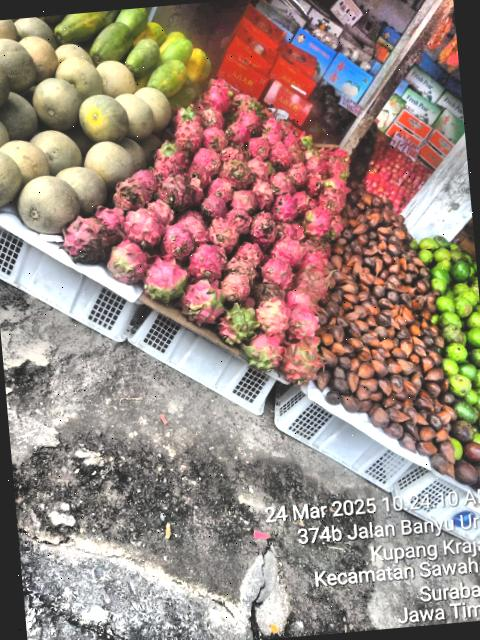buah-naga-belum-matang: (174, 272, 228, 328), (138, 250, 188, 305), (214, 298, 262, 346), (239, 324, 286, 372), (283, 336, 327, 385), (109, 237, 146, 284), (255, 292, 290, 334), (301, 204, 332, 242), (149, 138, 189, 166), (170, 102, 204, 126), (322, 168, 350, 194), (327, 150, 351, 180), (298, 130, 314, 150)
buah-naga-matang: (58, 216, 112, 268), (122, 205, 166, 247), (156, 172, 198, 210), (184, 240, 228, 275), (258, 252, 296, 290), (90, 199, 125, 239), (294, 256, 328, 297), (161, 220, 196, 258), (206, 214, 241, 252), (284, 302, 320, 338), (284, 282, 322, 315), (268, 234, 306, 267), (246, 209, 280, 244), (174, 208, 207, 242), (224, 251, 259, 282), (221, 156, 253, 188), (234, 238, 266, 268), (271, 192, 300, 224), (191, 145, 223, 174), (173, 121, 203, 151), (252, 178, 278, 210), (147, 196, 175, 225), (302, 238, 333, 264), (208, 174, 236, 202), (131, 167, 160, 194), (224, 269, 250, 299), (230, 186, 258, 212), (264, 140, 290, 168), (206, 84, 232, 112), (186, 162, 213, 188), (320, 185, 346, 212), (199, 122, 228, 146), (268, 169, 294, 195), (200, 193, 228, 217), (229, 204, 251, 233), (201, 106, 226, 130), (224, 121, 250, 144), (293, 187, 315, 213), (220, 142, 248, 162), (280, 217, 304, 240), (247, 137, 271, 160), (248, 156, 270, 178), (306, 153, 325, 175), (289, 161, 306, 184), (304, 176, 321, 194)
